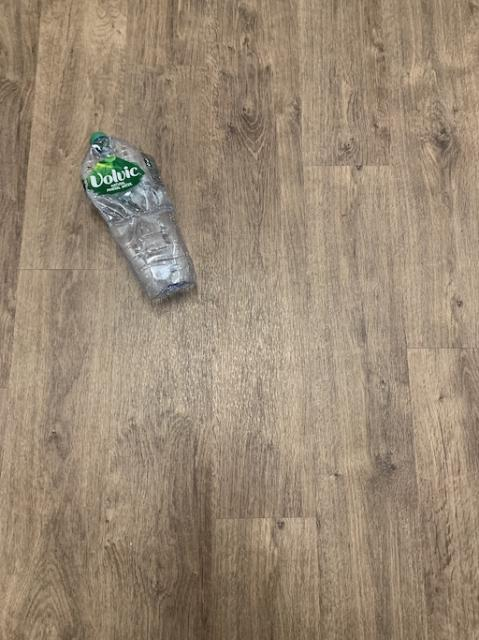plastic: (81, 130, 195, 297)
